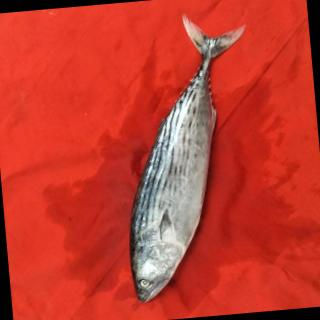Ikan: (104, 7, 270, 310)
